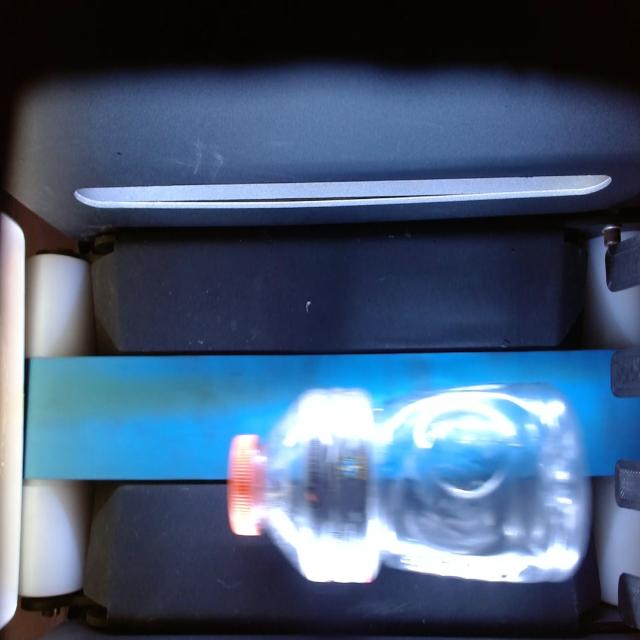bottom: (531, 368, 590, 594)
cap: (224, 434, 268, 554)
